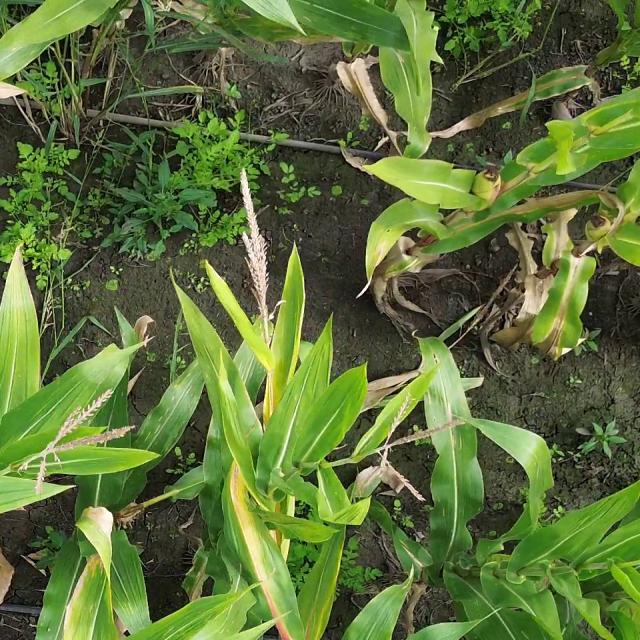gray-leaf-spot: (152, 375, 196, 441), (426, 389, 471, 453), (432, 493, 467, 534)
northern-leaf-blight: (224, 472, 279, 591), (466, 197, 547, 234), (530, 63, 601, 103), (555, 258, 584, 336)
